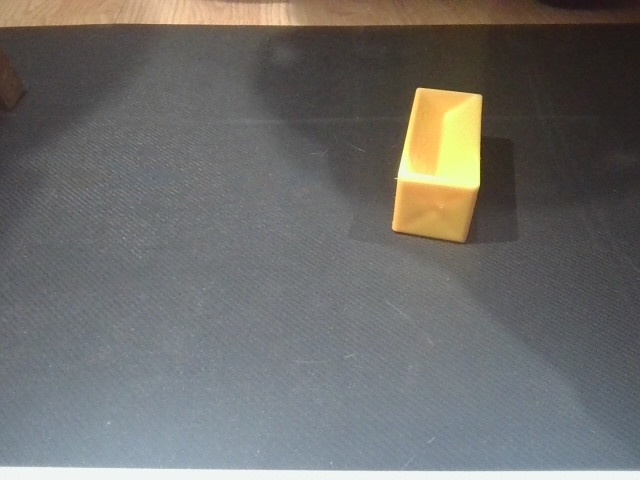YellowSample: (388, 83, 486, 247)
